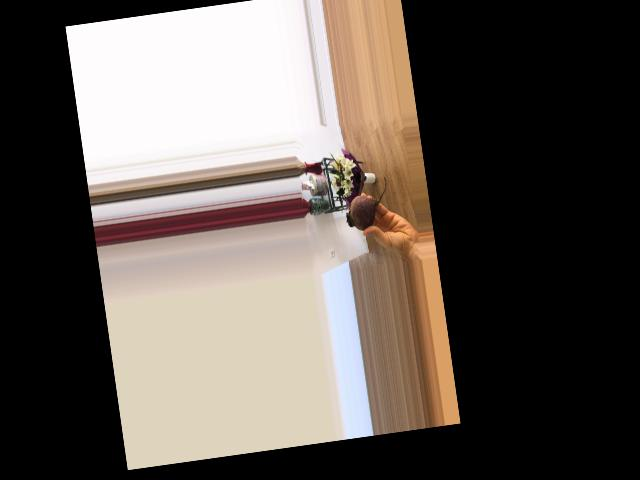beet: (341, 175, 392, 232)
